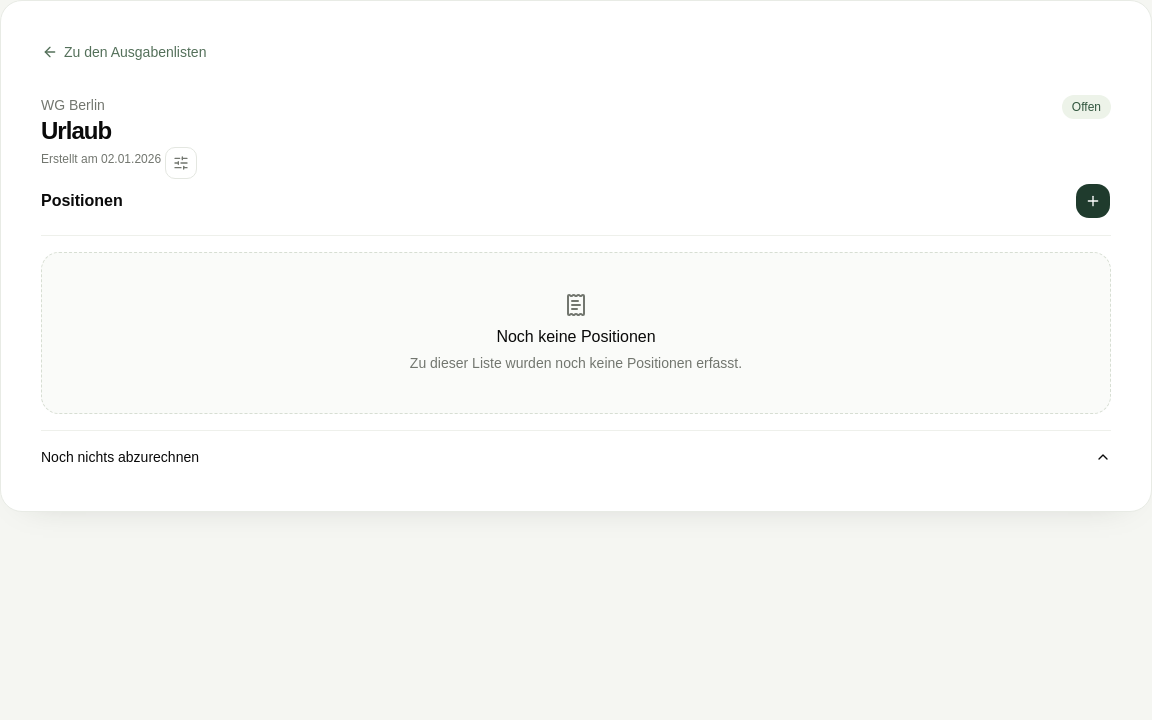
Test case: ExpenseListDetail › meldet einen ungültigen Betrag, ohne zu speichern
Click the button named "Position hinzufügen" at (1093, 201), box [1075, 183, 1111, 219]
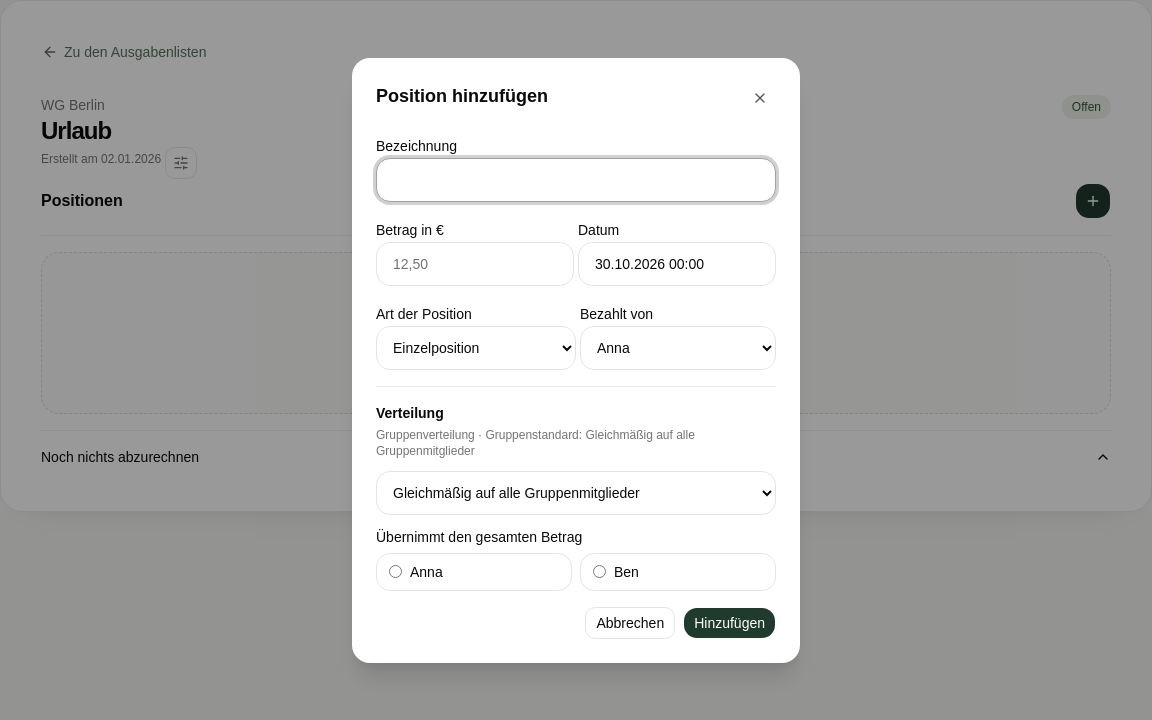
Type "Brot" into the field labelled "Bezeichnung" at (576, 180), box [376, 158, 776, 202]
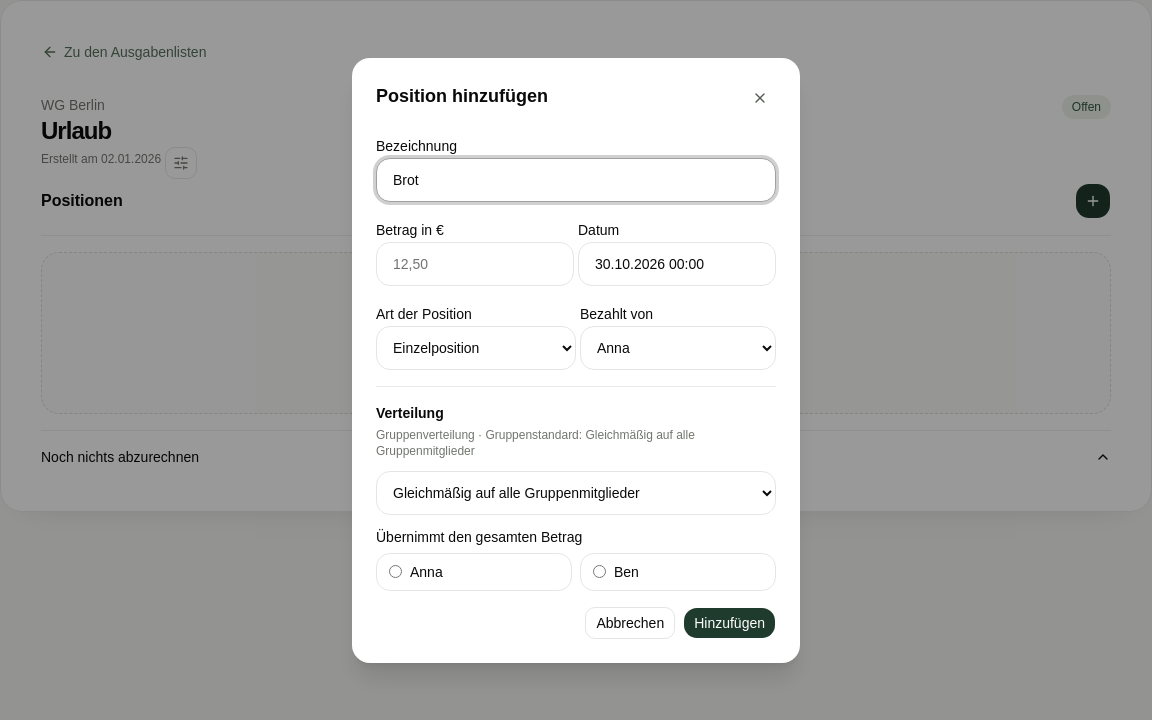
Type "abc" into the field labelled "Betrag in €" at (475, 264), box [376, 242, 574, 286]
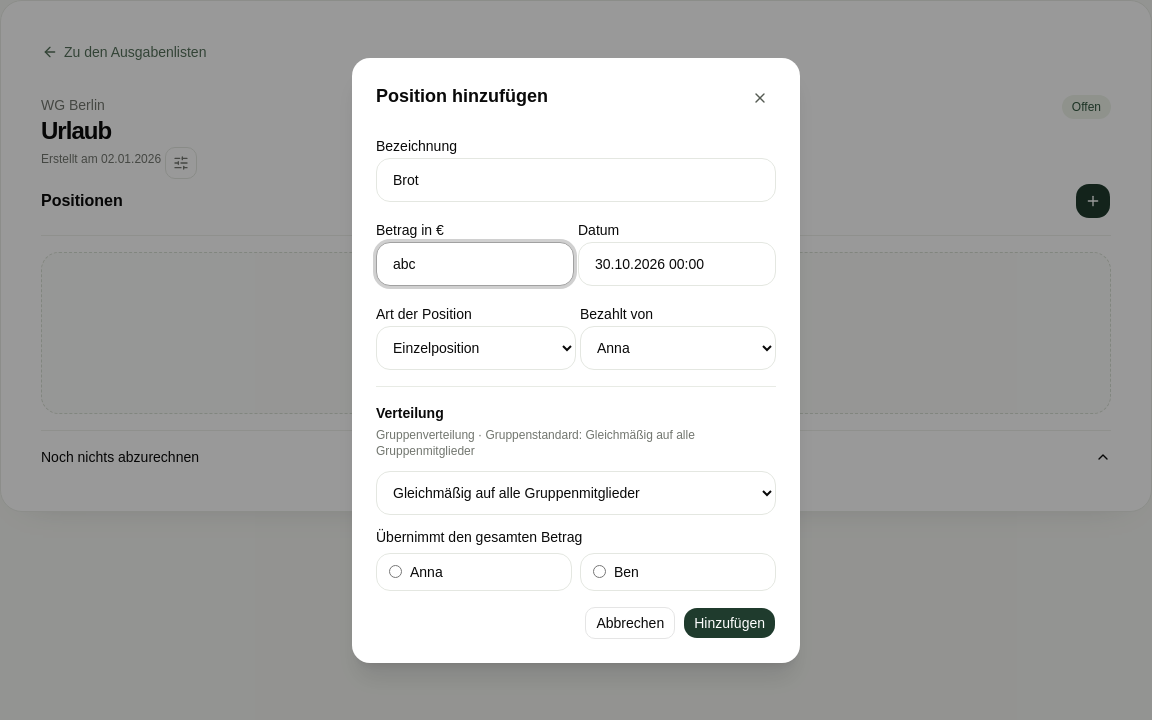
Click the button "Hinzufügen" at (730, 622), box [683, 606, 776, 638]
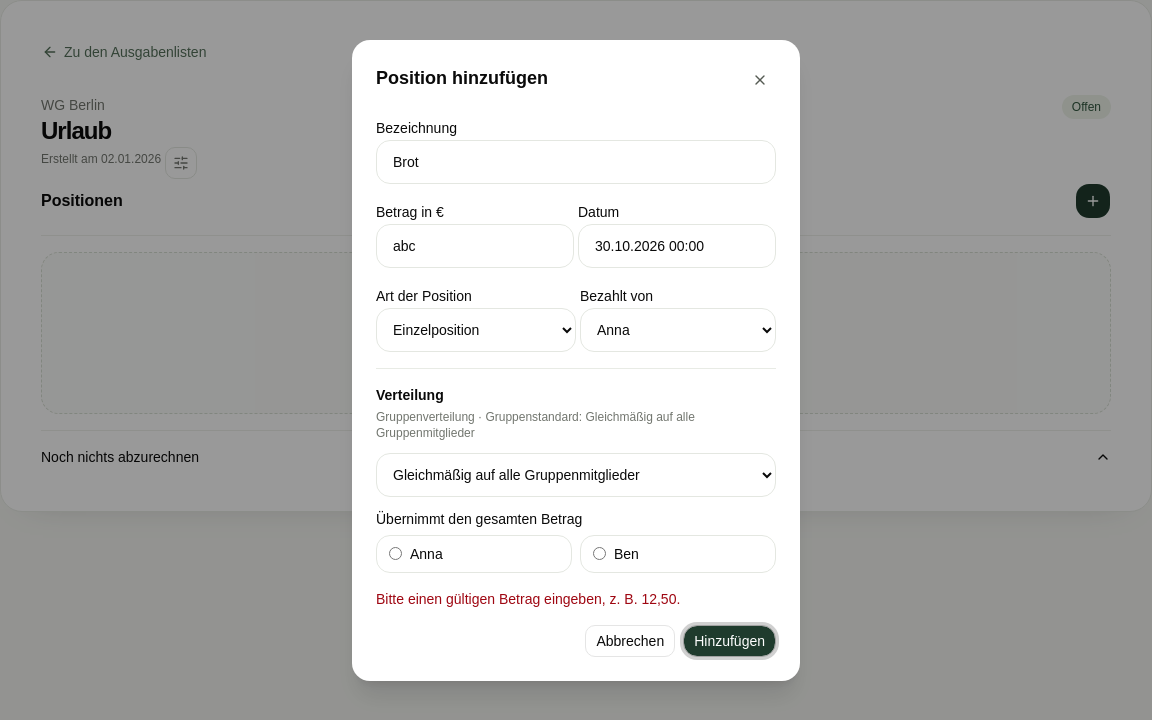
Check: the message "Bitte einen gültigen Betrag eingeben, z. B. 12,50." is shown, box [376, 590, 680, 606]
